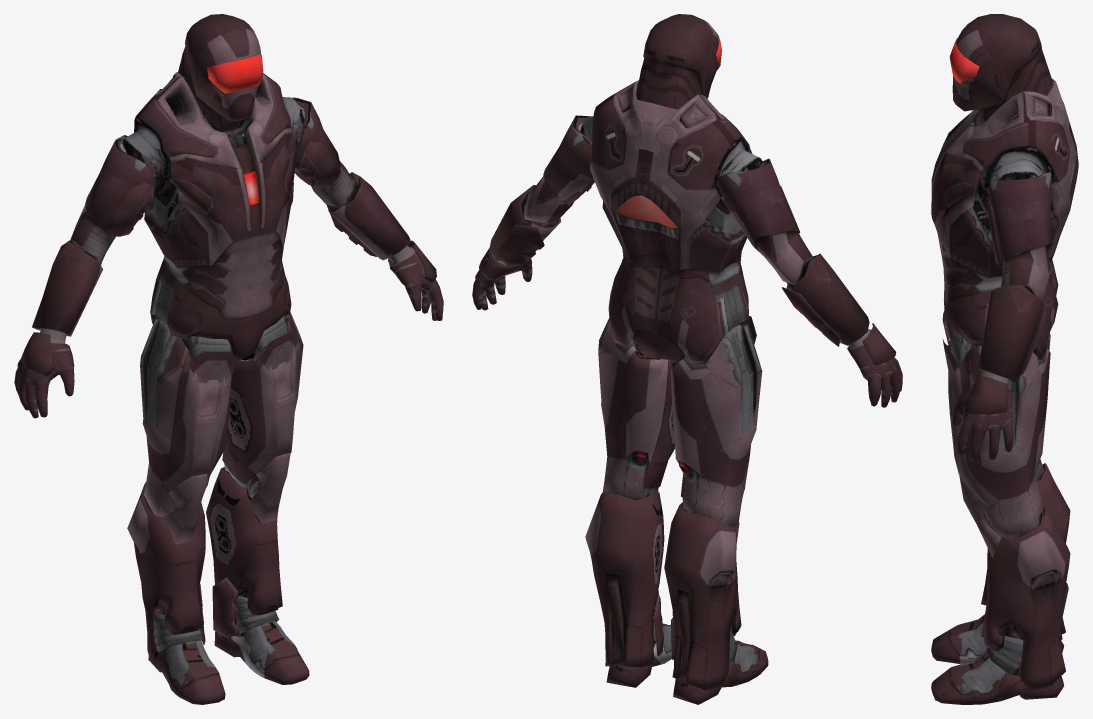
File: Boss_1.fbx
3 renders of one model, left to right at view 1: azimuth 30°, elevation 25°; view 2: azimuth 150°, elevation 25°; view 3: azimuth 270°, elevation 25°, orthographic.
Parts seen in each view (by area): view 1: Boss_1; view 2: Boss_1; view 3: Boss_1.
Boxes of the visible parts, <box> form: Boss_1: <box>14,14,443,704</box>; Boss_1: <box>472,14,902,704</box>; Boss_1: <box>931,14,1078,704</box>.
Size of the model in its own units: 121 by 181 by 36.93.
Materials: 1 (1 with a texture image).
